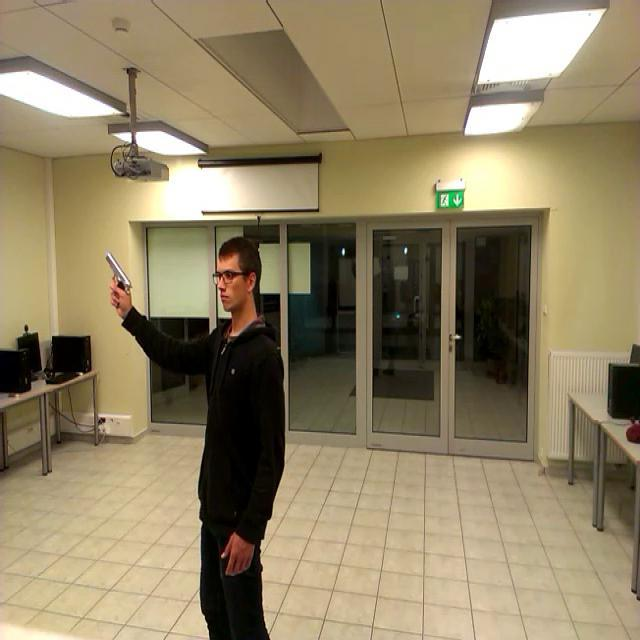Gun: (104, 250, 130, 308)
